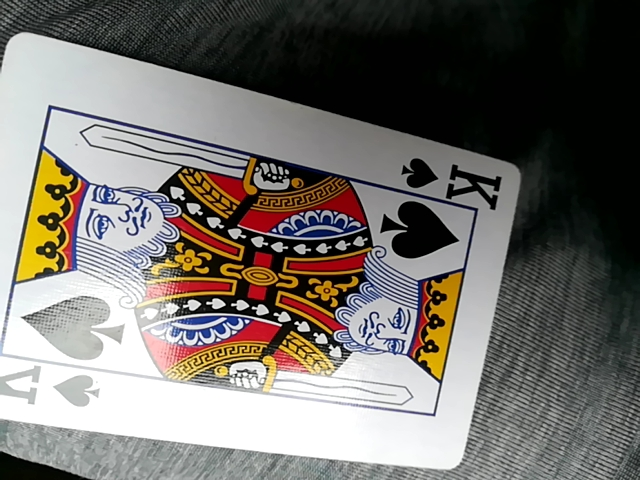ht k: (1, 38, 519, 480)
